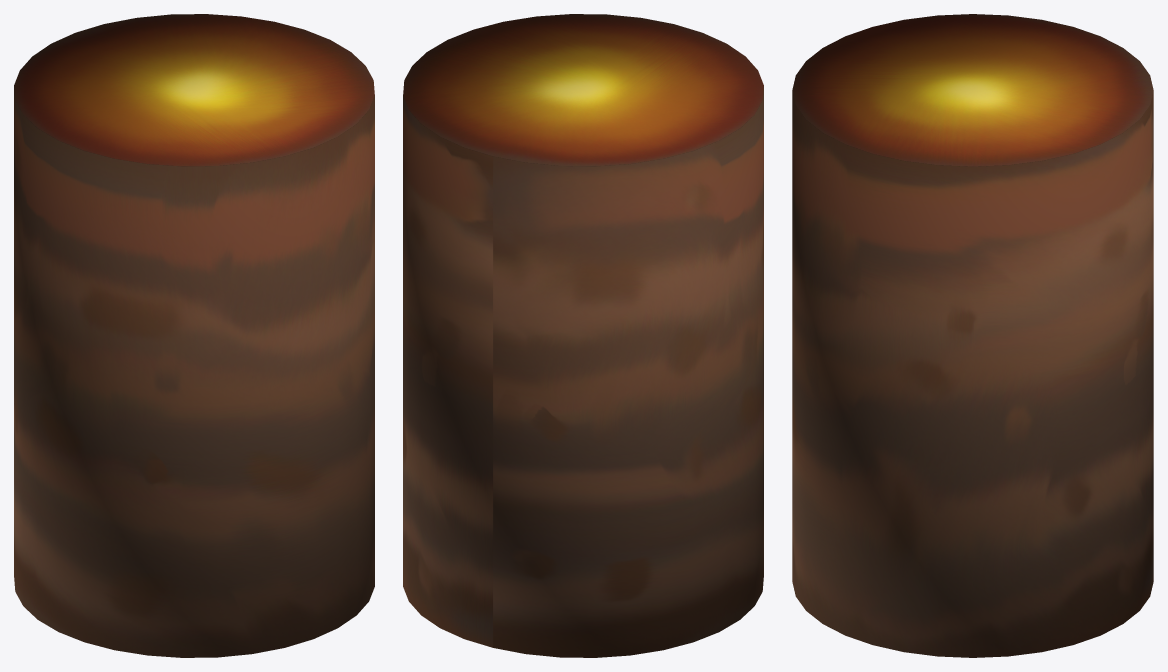
File: core.fbx
3 renders of one model, left to right at view 1: azimuth 30°, elevation 25°; view 2: azimuth 150°, elevation 25°; view 3: azimuth 270°, elevation 25°, orthographic.
Parts seen in each view (by area): view 1: CoreMaterial; view 2: CoreMaterial; view 3: CoreMaterial.
Part boxes in pixels (x1=…): CoreMaterial: x1=14, y1=14, x2=374, y2=657; CoreMaterial: x1=403, y1=14, x2=763, y2=657; CoreMaterial: x1=792, y1=14, x2=1153, y2=657.
Bounding box in the file's own units: 200 × 300 × 200.
